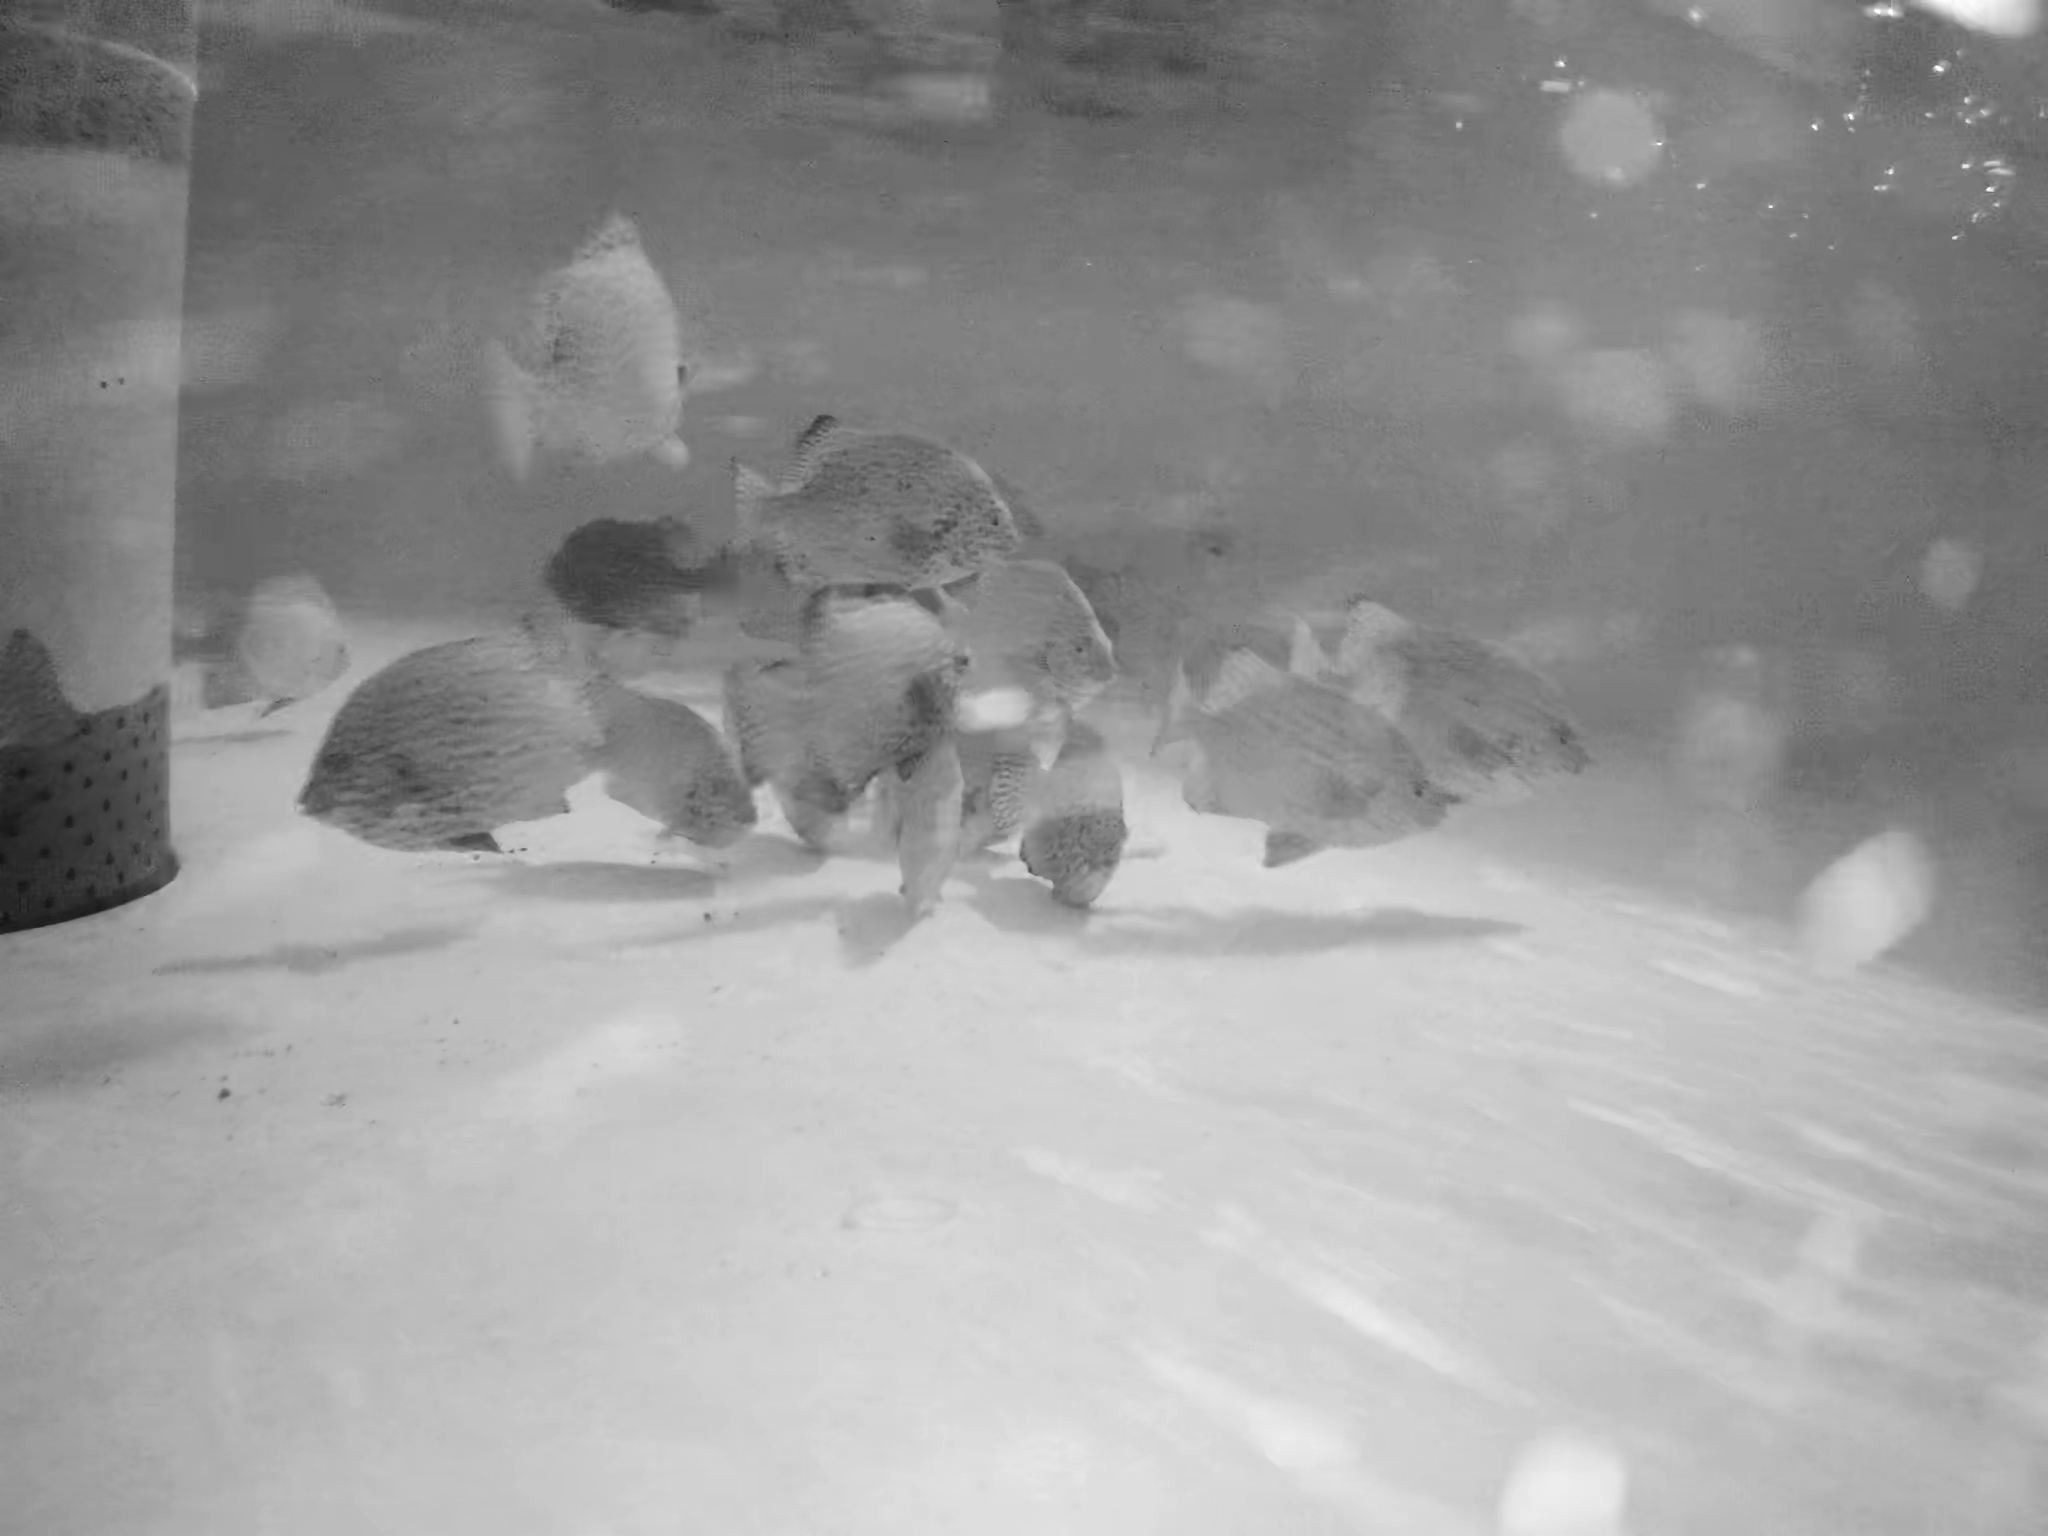fish: (1156, 620, 1476, 873), (490, 195, 713, 513), (308, 629, 610, 845), (1335, 603, 1613, 802), (727, 415, 1043, 582), (739, 586, 956, 792), (576, 670, 734, 887), (535, 510, 787, 642), (187, 558, 343, 703), (1029, 720, 1129, 920), (877, 731, 989, 907)
